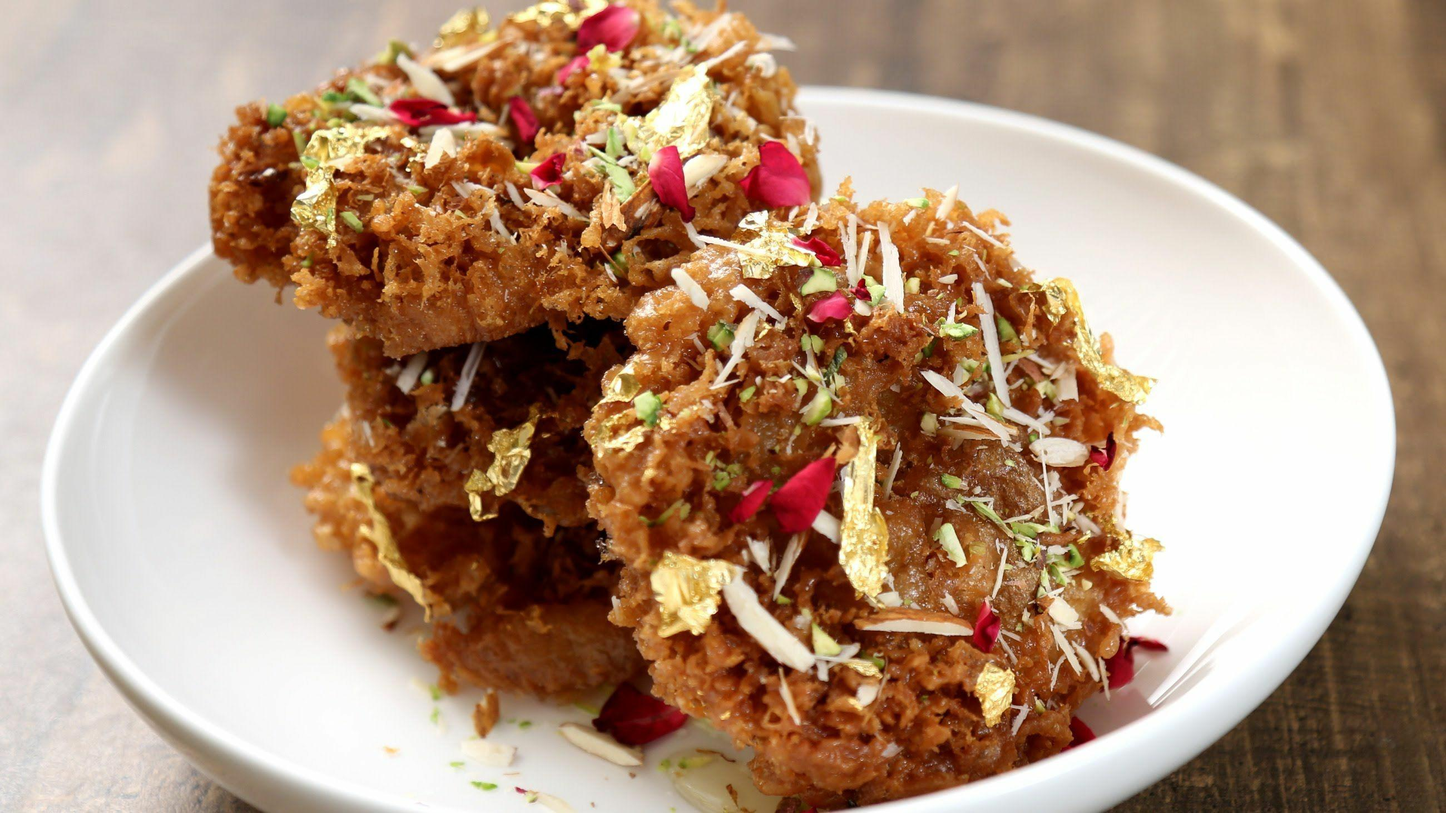Ghevar: (585, 178, 1171, 813), (212, 4, 829, 354), (290, 285, 699, 706)
